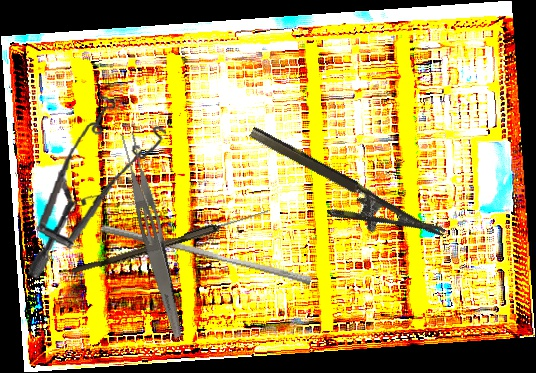Dressing Forceps: (115, 129, 192, 340)
Needle Holder: (234, 124, 447, 268)
Pusher: (98, 223, 314, 286)
Speculum: (27, 87, 170, 291)
Surgical Spoon: (71, 205, 270, 279)
